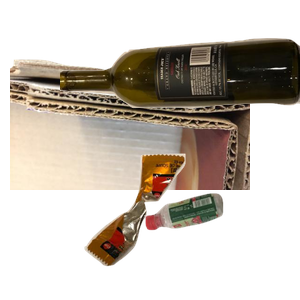cardboard: (10, 57, 250, 237)
glass: (60, 36, 300, 147)
plastic: (142, 191, 300, 300)
trash: (82, 151, 260, 300)
